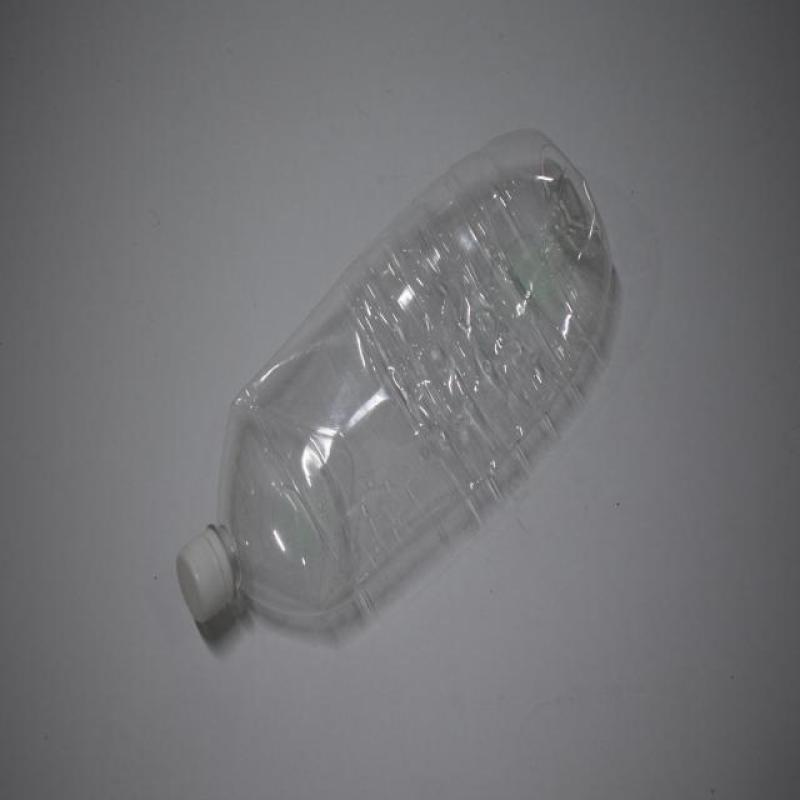botella: (174, 131, 616, 632)
